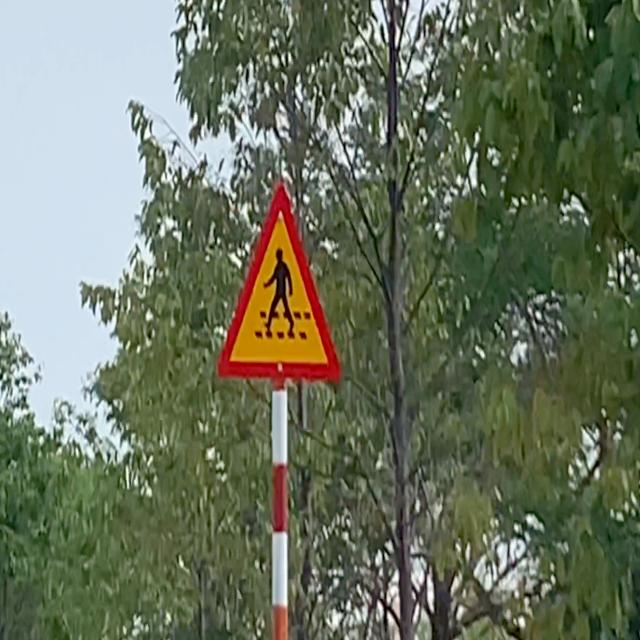Nguoi di bo cat ngang: (214, 182, 343, 388)
